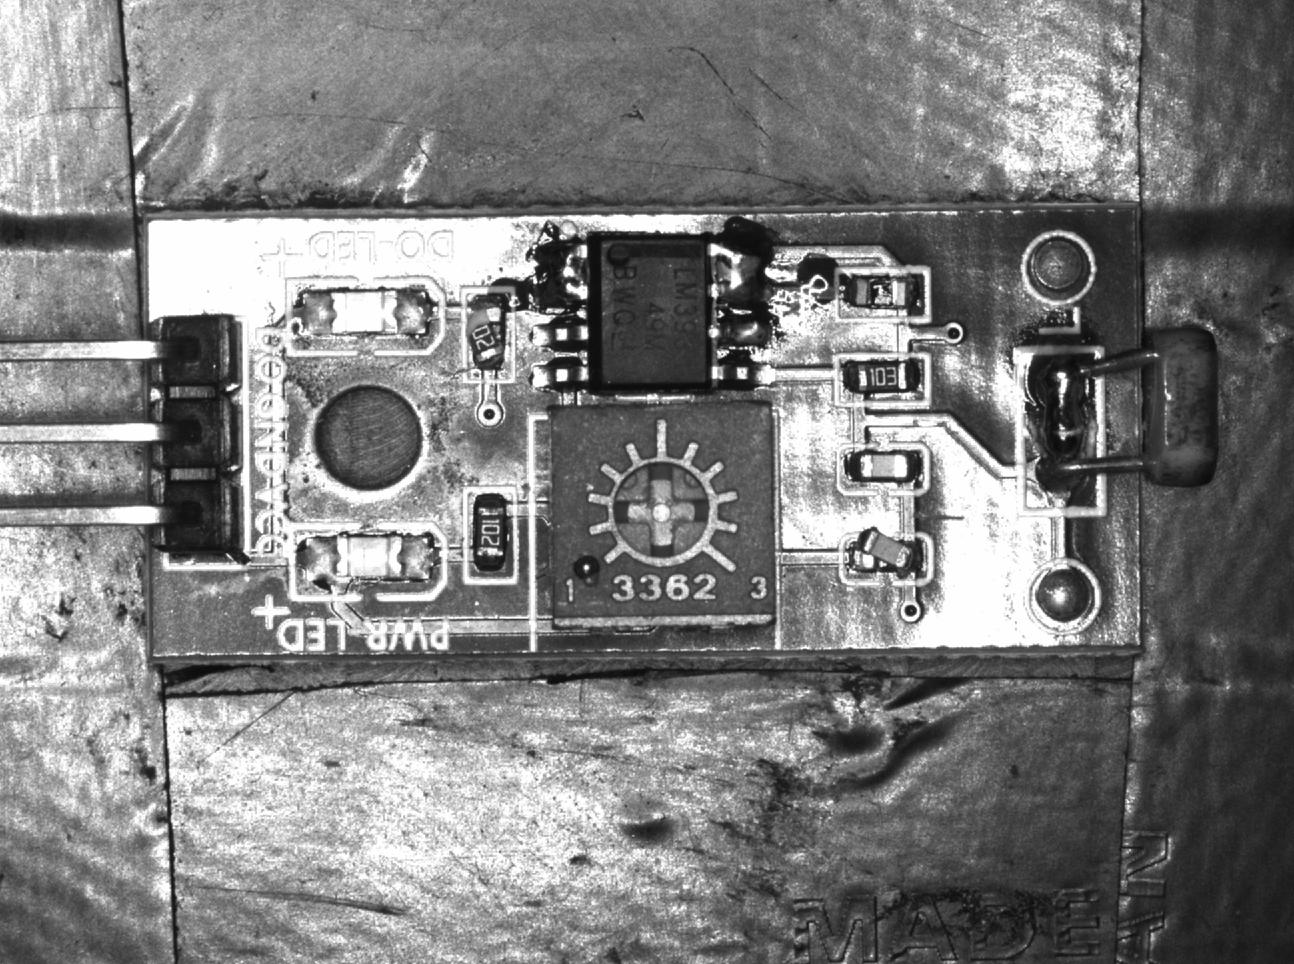bridge: (1018, 350, 1106, 516), (708, 230, 774, 345), (530, 236, 591, 314)
lifted: (836, 527, 934, 586), (460, 288, 516, 381)
miss: (840, 268, 926, 317)
ok: (461, 489, 518, 582), (836, 441, 929, 495), (838, 354, 926, 407)
